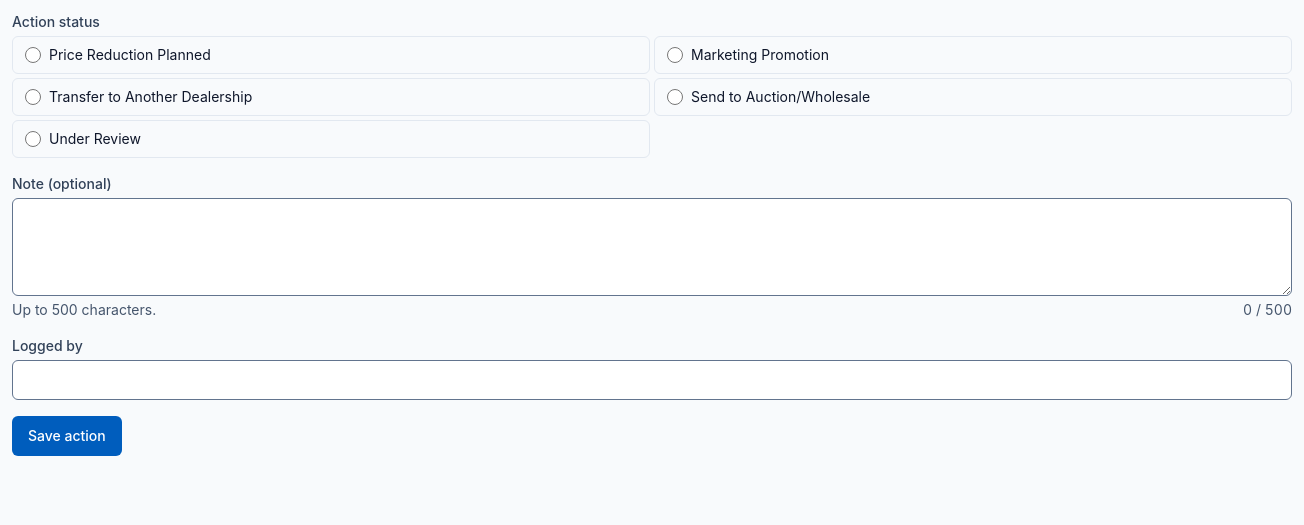
Test case: LogActionForm (T-031) › shows field errors, focuses the status group and does not submit when empty (AC-006.4)
Click the button "Save action" at (67, 436), box x1=12 y1=416 x2=122 y2=456
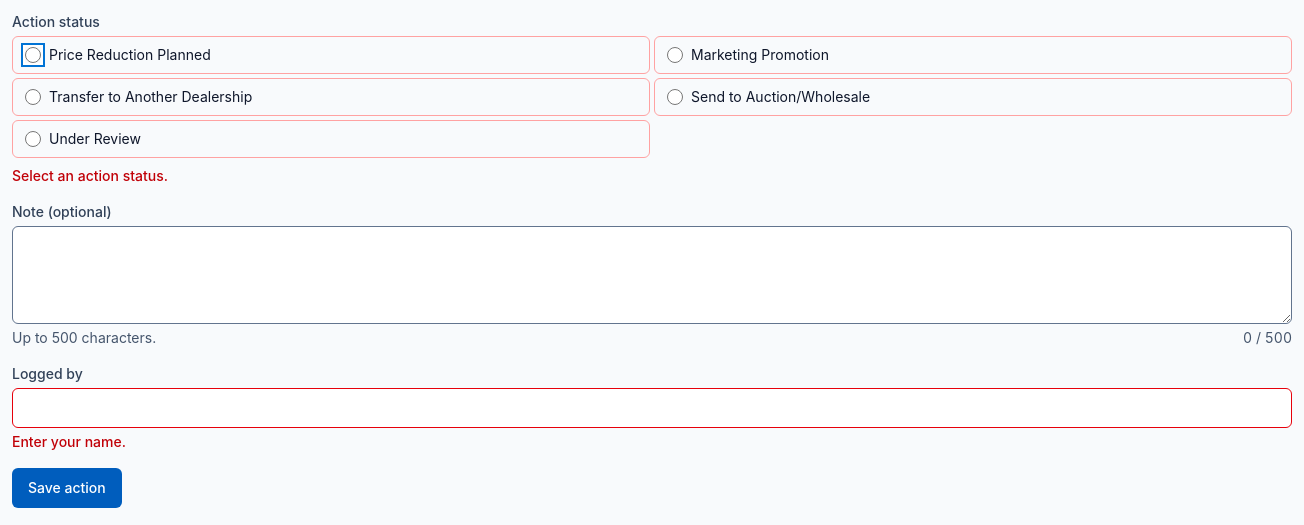
Expected: the text "Select an action status." is shown, x1=12 y1=167 x2=168 y2=184
Expected: the text "Enter your name." is shown, x1=12 y1=433 x2=126 y2=450
